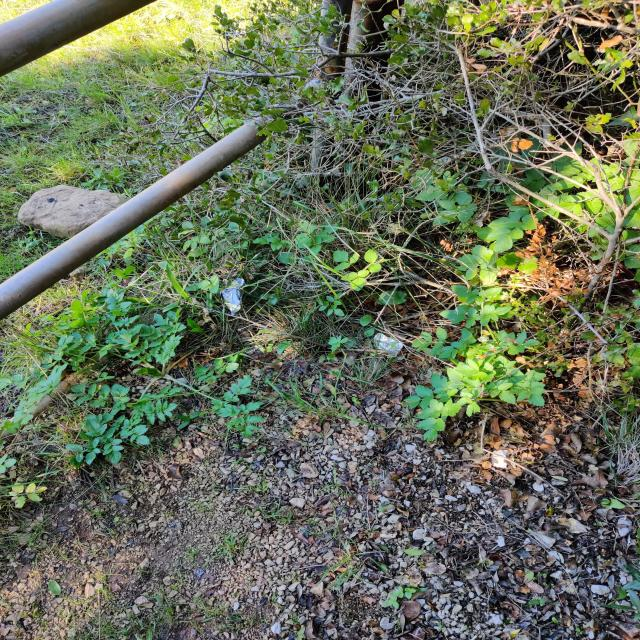litter: (222, 278, 244, 316), (373, 332, 403, 355)
